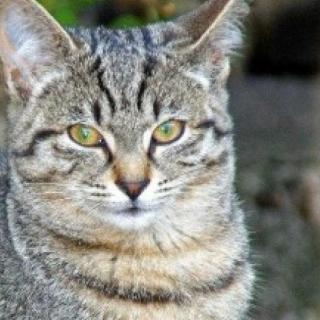cat: (0, 0, 269, 246)
nose: (112, 152, 152, 204)
